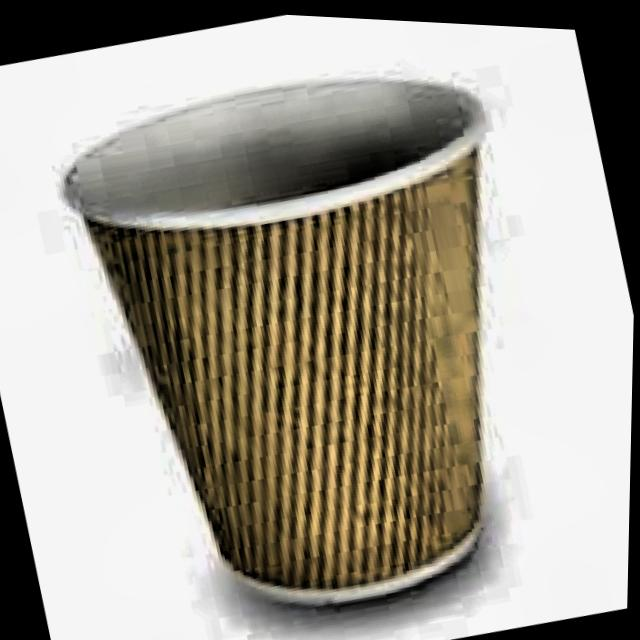Cup: (28, 29, 591, 640)
